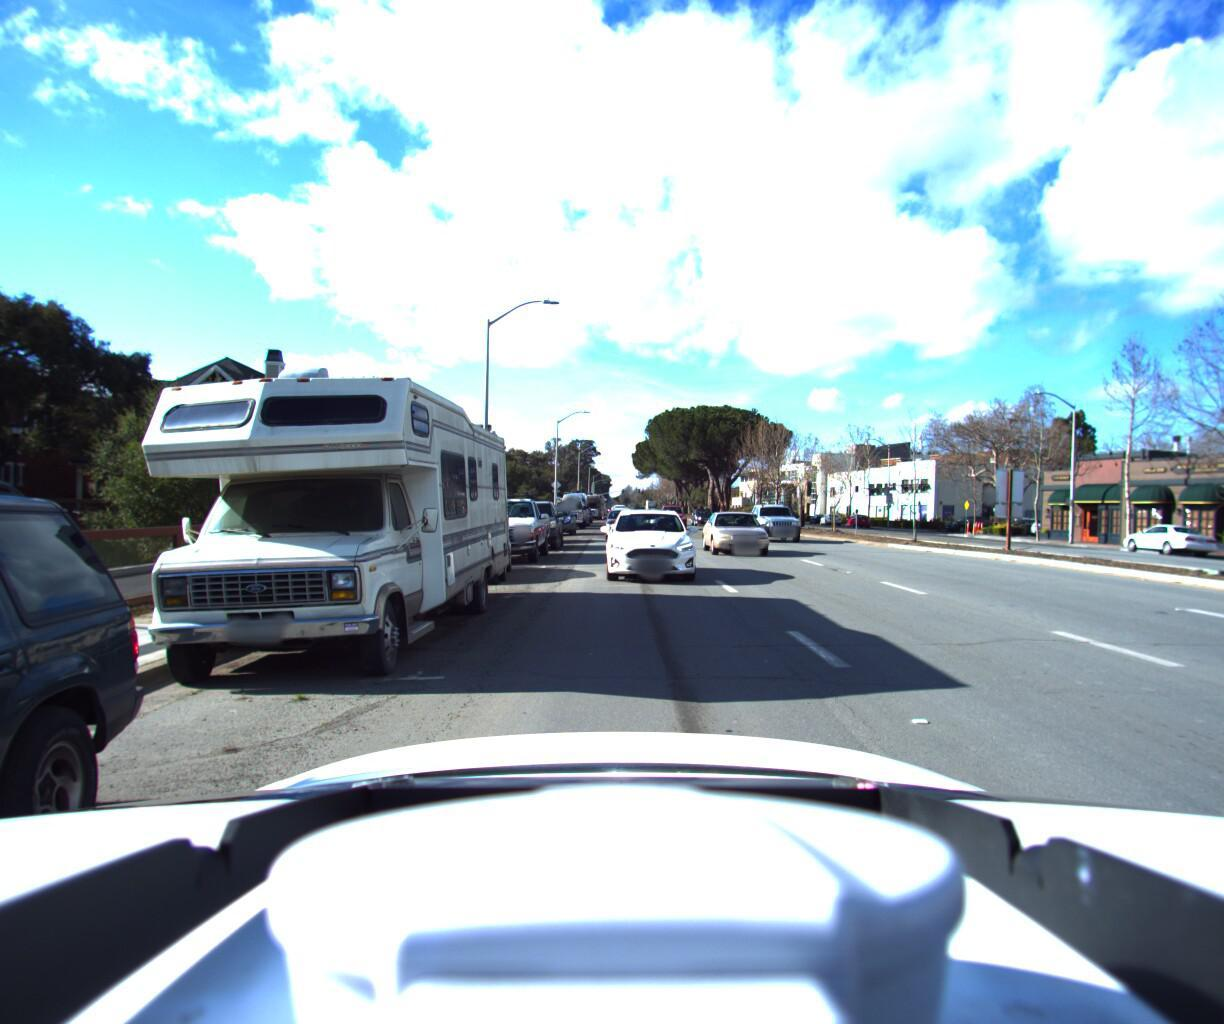car: (604, 505, 701, 587), (456, 490, 553, 567), (417, 515, 513, 587), (701, 509, 784, 565), (1115, 523, 1223, 563), (502, 498, 564, 553), (748, 501, 812, 545), (538, 505, 578, 539), (552, 495, 587, 532), (560, 489, 591, 530), (940, 516, 995, 534), (656, 505, 690, 532)
other_vehicle: (72, 310, 512, 699)
